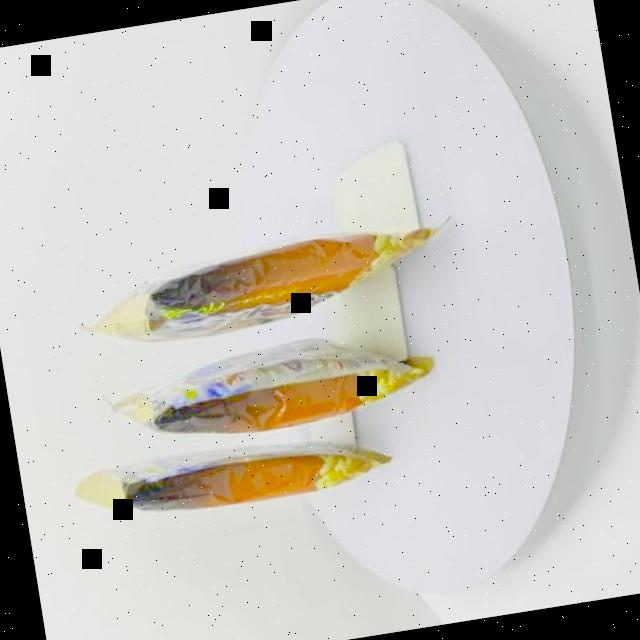snack_bag: (28, 200, 504, 542)
